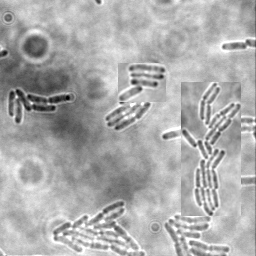Dividing: (221, 41, 248, 52)
Microcolony: (181, 82, 241, 216), (51, 200, 147, 255), (162, 212, 231, 255), (8, 89, 72, 126), (118, 63, 166, 102), (106, 96, 153, 132)
